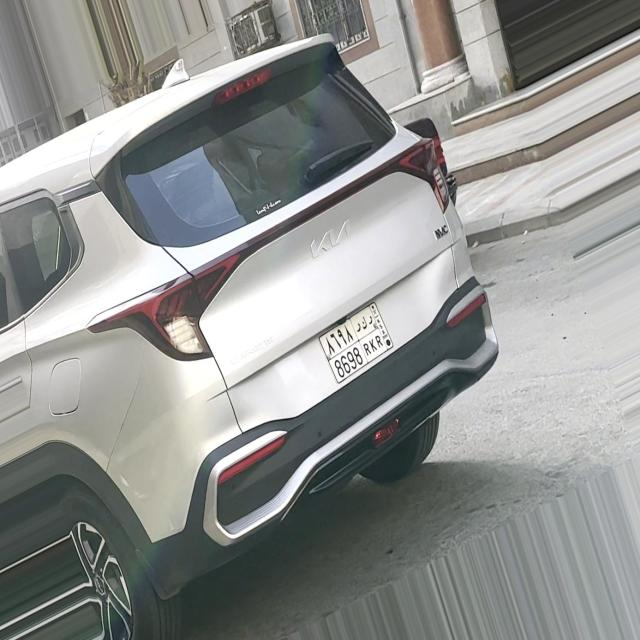Car-plate: (311, 289, 407, 393)
